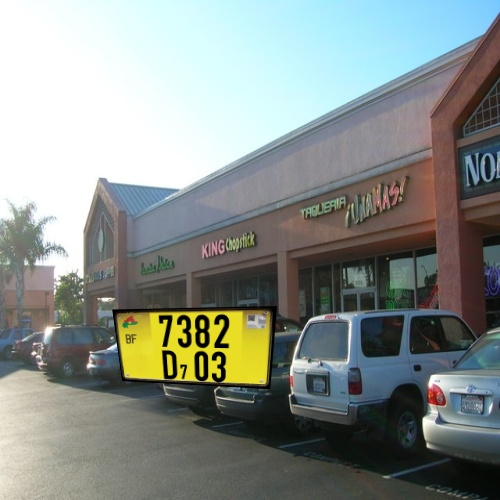plate: (105, 300, 281, 394)
